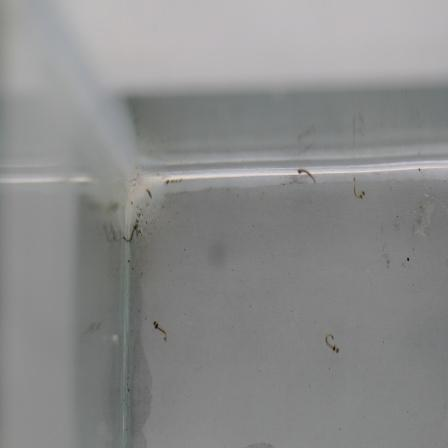Jentik-Nyamuk: (318, 328, 344, 359), (347, 173, 369, 201), (293, 165, 319, 188), (149, 317, 169, 344)
